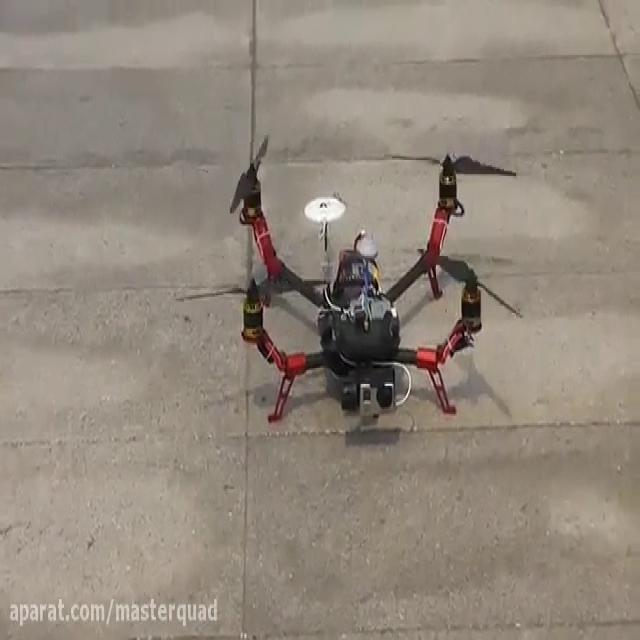drone: (174, 132, 525, 432)
